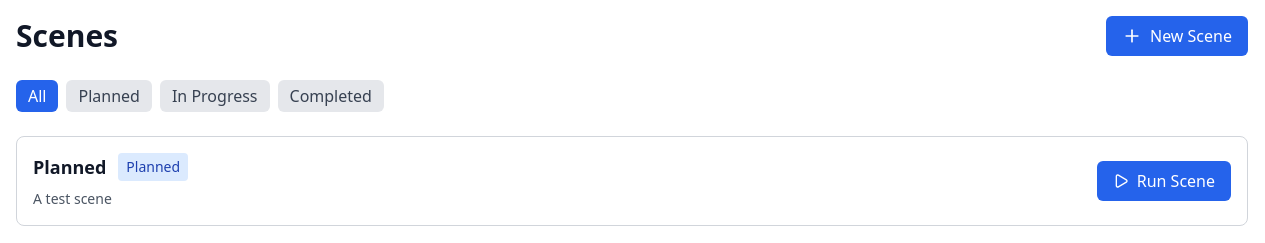
Test: Scene List Page - Status Filtering › should show empty state for filtered view with no matches
Click the button "Completed" at (331, 96), box [278,80,384,112]
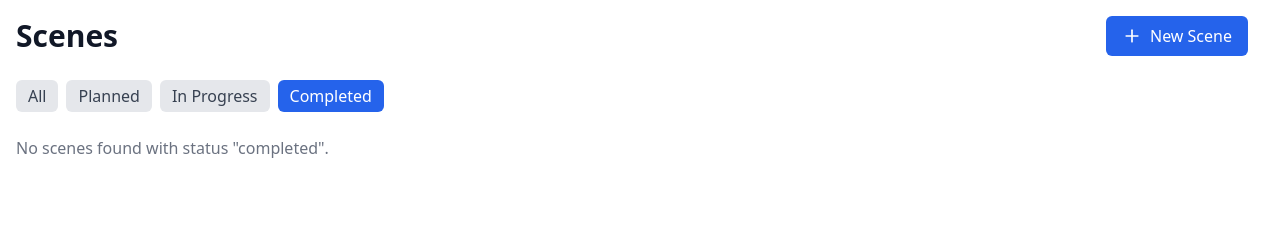
Expected: the text "No scenes found with status \"completed\"." is shown, [16,137,329,159]
